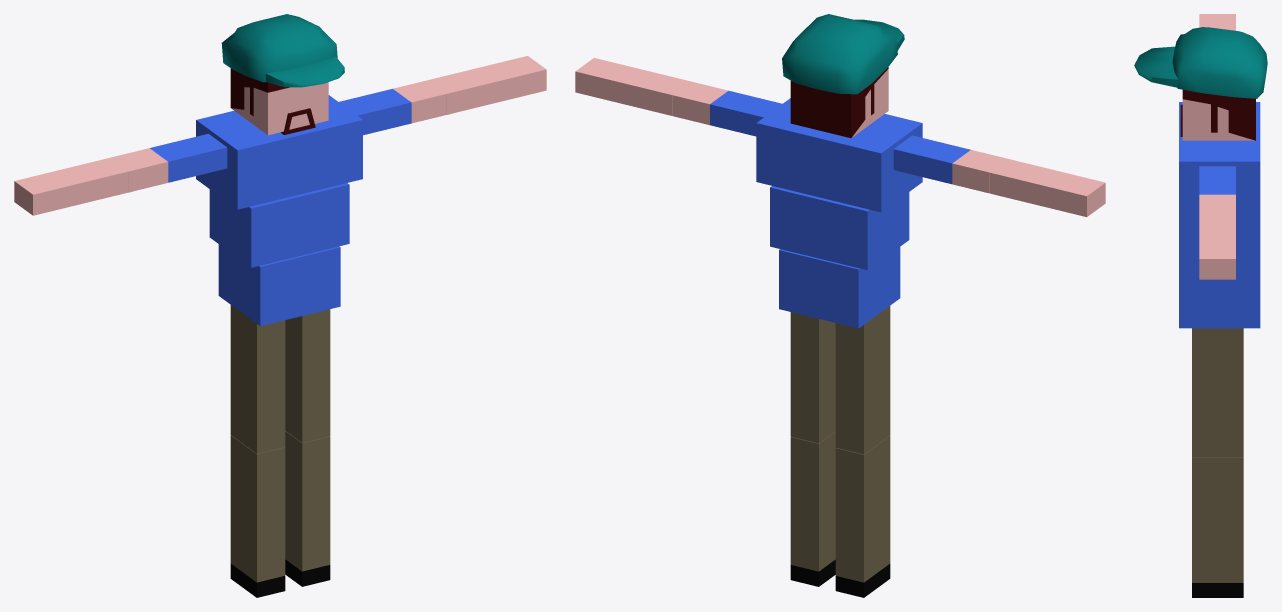
File: HumanoidAdjustments.fbx
3 renders of one model, left to right at view 1: azimuth 30°, elevation 25°; view 2: azimuth 150°, elevation 25°; view 3: azimuth 270°, elevation 25°, orthographic. The views are drawn at different scales.
Visible parts, largest first — view 1: Humanoid_v01:Chest, Humanoid_v01:Head, Humanoid_v01:Abs, Humanoid_v01:L_Calf, Humanoid_v01:L_Thigh, Humanoid_v01:Hips, Humanoid_v01:R_Calf, Humanoid_v01:R_Thigh, Humanoid_v01:L_Forearm, Humanoid_v01:R_ForeArm, Humanoid_v01:L_UpperArm, Humanoid_v01:R_UpperArm; view 2: Humanoid_v01:Chest, Humanoid_v01:Head, Humanoid_v01:Abs, Humanoid_v01:L_Calf, Humanoid_v01:L_Thigh, Humanoid_v01:Hips, Humanoid_v01:R_Calf, Humanoid_v01:R_Thigh, Humanoid_v01:L_Forearm, Humanoid_v01:R_ForeArm, Humanoid_v01:L_UpperArm, Humanoid_v01:R_UpperArm; view 3: Humanoid_v01:Head, Humanoid_v01:R_Calf, Humanoid_v01:R_Thigh, Humanoid_v01:Chest, Humanoid_v01:Hips, Humanoid_v01:R_ForeArm, Humanoid_v01:Abs, Humanoid_v01:R_UpperArm, Humanoid_v01:L_Forearm.
Boxes of the visible parts, bbox=[...] form: Humanoid_v01:Chest: bbox=[196, 95, 362, 209]; Humanoid_v01:Head: bbox=[221, 14, 344, 135]; Humanoid_v01:Abs: bbox=[209, 183, 349, 267]; Humanoid_v01:L_Calf: bbox=[230, 435, 285, 597]; Humanoid_v01:L_Thigh: bbox=[230, 305, 285, 453]; Humanoid_v01:Hips: bbox=[218, 244, 340, 326]; Humanoid_v01:R_Calf: bbox=[285, 431, 330, 586]; Humanoid_v01:R_Thigh: bbox=[285, 309, 330, 442]; Humanoid_v01:L_Forearm: bbox=[14, 157, 132, 215]; Humanoid_v01:R_ForeArm: bbox=[429, 56, 546, 114]; Humanoid_v01:L_UpperArm: bbox=[112, 133, 227, 191]; Humanoid_v01:R_UpperArm: bbox=[339, 79, 446, 135]; Humanoid_v01:Chest: bbox=[756, 98, 922, 212]; Humanoid_v01:Head: bbox=[782, 14, 904, 138]; Humanoid_v01:Abs: bbox=[770, 186, 909, 270]; Humanoid_v01:L_Calf: bbox=[835, 436, 890, 597]; Humanoid_v01:L_Thigh: bbox=[835, 306, 890, 454]; Humanoid_v01:Hips: bbox=[779, 247, 900, 328]; Humanoid_v01:R_Calf: bbox=[790, 431, 835, 586]; Humanoid_v01:R_Thigh: bbox=[790, 312, 835, 443]; Humanoid_v01:L_Forearm: bbox=[988, 158, 1105, 216]; Humanoid_v01:R_ForeArm: bbox=[575, 58, 692, 115]; Humanoid_v01:L_UpperArm: bbox=[893, 135, 1005, 193]; Humanoid_v01:R_UpperArm: bbox=[672, 82, 782, 136]; Humanoid_v01:Head: bbox=[1134, 27, 1267, 140]; Humanoid_v01:R_Calf: bbox=[1192, 457, 1243, 597]; Humanoid_v01:R_Thigh: bbox=[1192, 328, 1243, 457]; Humanoid_v01:Chest: bbox=[1179, 102, 1260, 219]; Humanoid_v01:Hips: bbox=[1179, 273, 1260, 328]; Humanoid_v01:R_ForeArm: bbox=[1199, 211, 1235, 279]; Humanoid_v01:Abs: bbox=[1179, 219, 1260, 273]; Humanoid_v01:R_UpperArm: bbox=[1199, 166, 1235, 212]; Humanoid_v01:L_Forearm: bbox=[1199, 14, 1235, 30].
Bounding box in the file's own units: 6.12 × 6.35 × 1.41.
